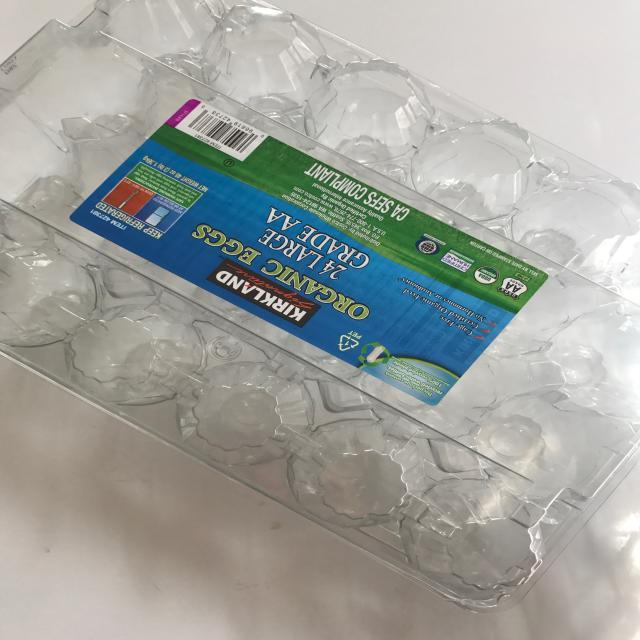plastic: (1, 2, 640, 618)
